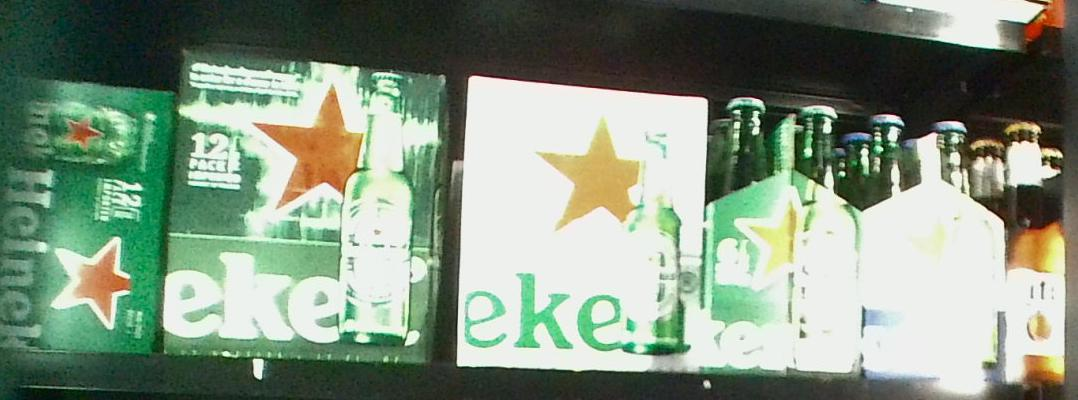bottle: (178, 44, 445, 361), (460, 68, 704, 359), (708, 88, 860, 379), (1, 85, 162, 358), (865, 105, 1008, 377)
